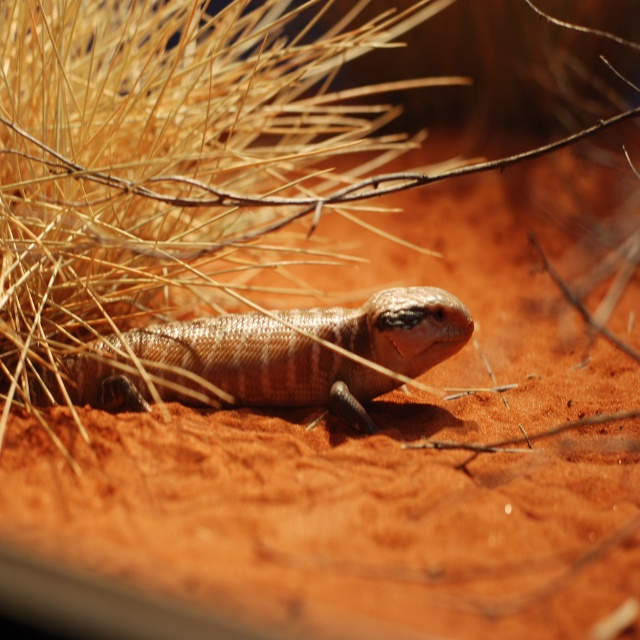Lizard: (24, 269, 519, 453)
